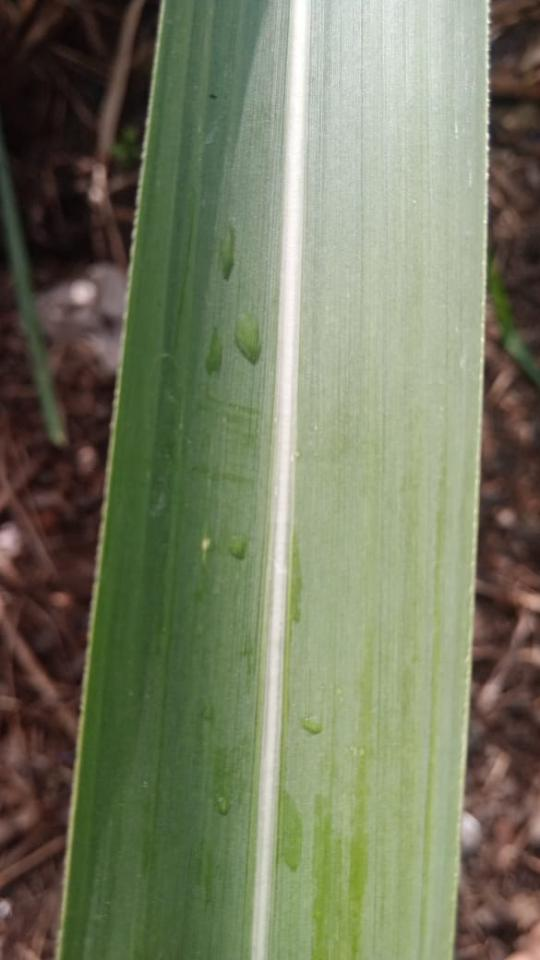Healthy: (53, 0, 488, 959)
